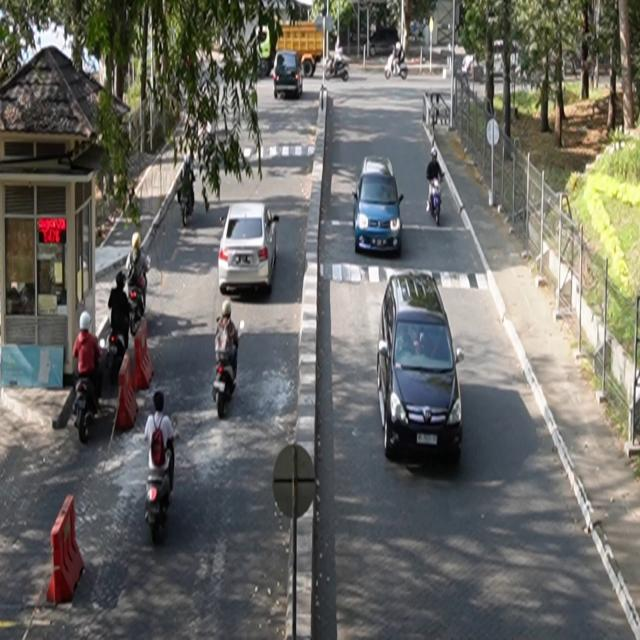car: (378, 270, 466, 464), (219, 203, 280, 296), (354, 156, 405, 256), (274, 51, 304, 100)
